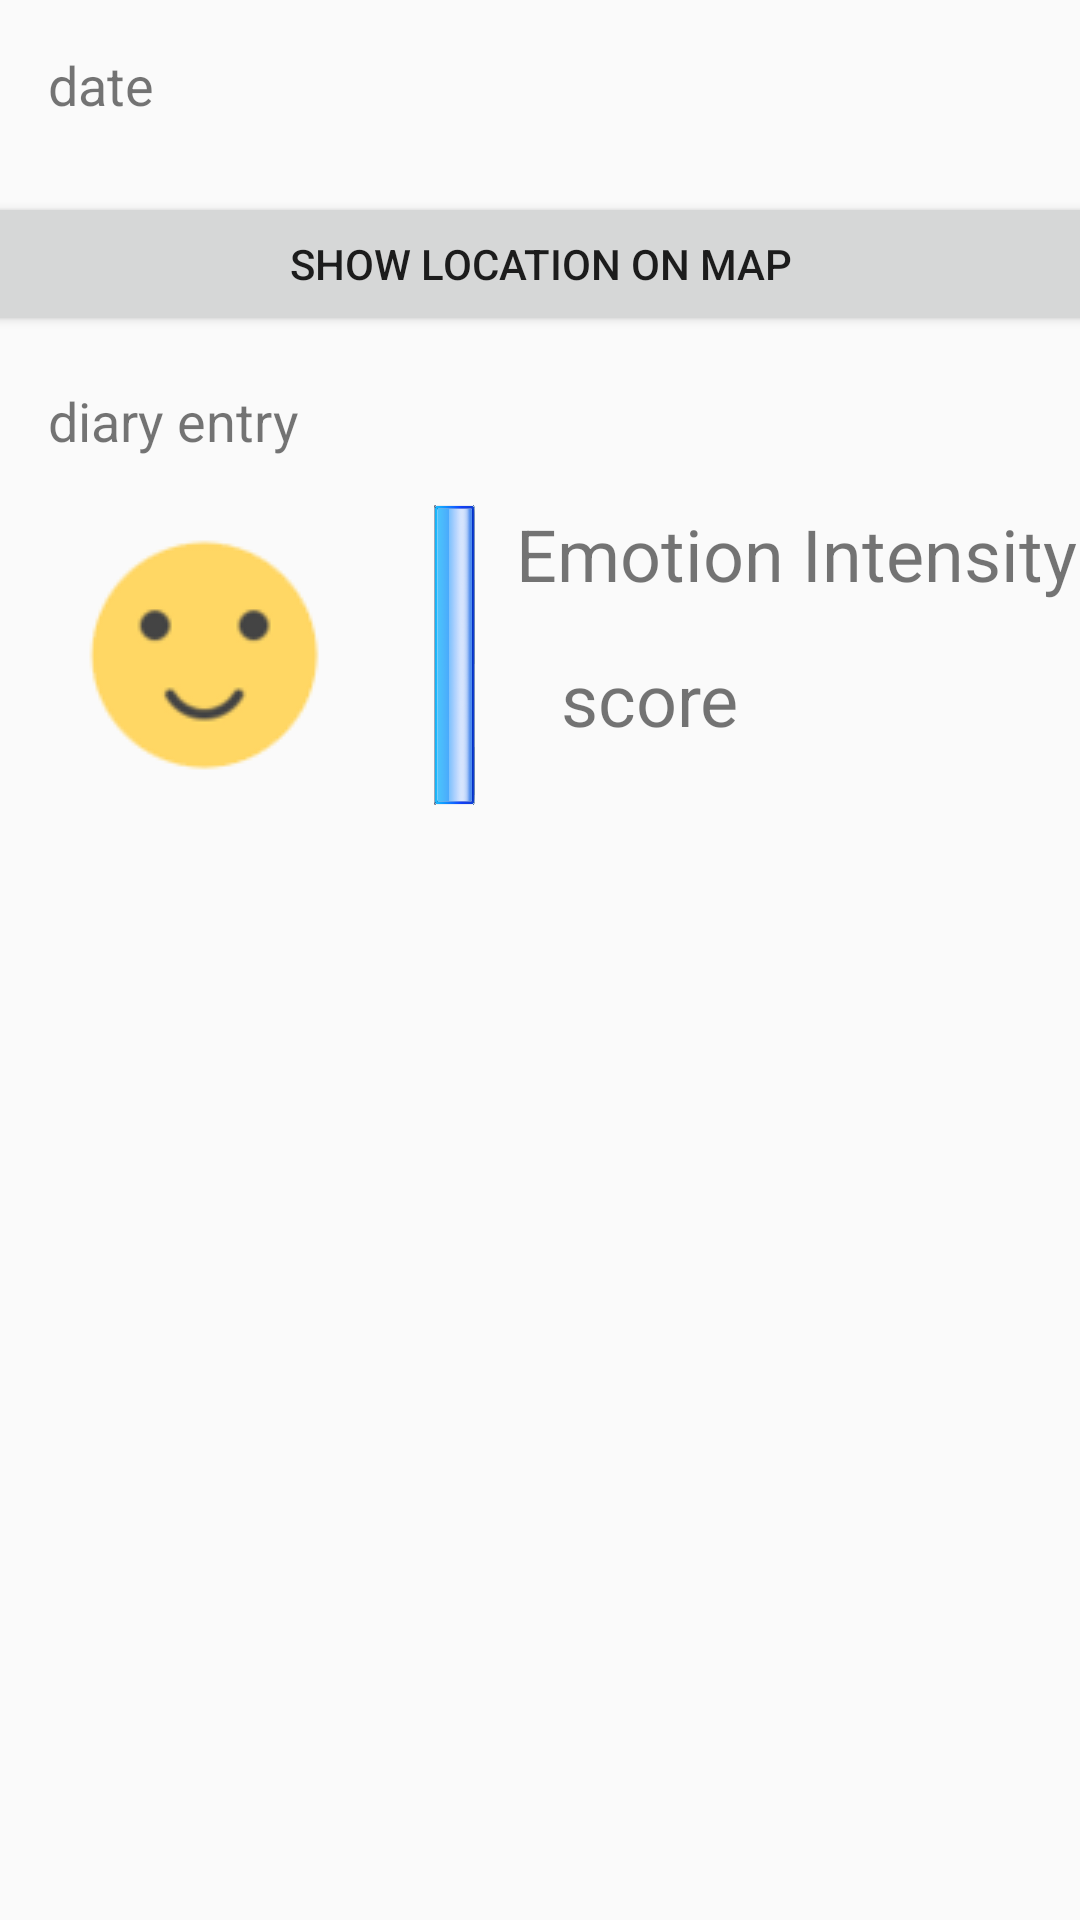

Icons on this 1080*1920 Android screen, each with its box as {"left": x1, "top": y1, "right": x2, "bottom": y2}:
smile: {"left": 90, "top": 541, "right": 319, "bottom": 770}
